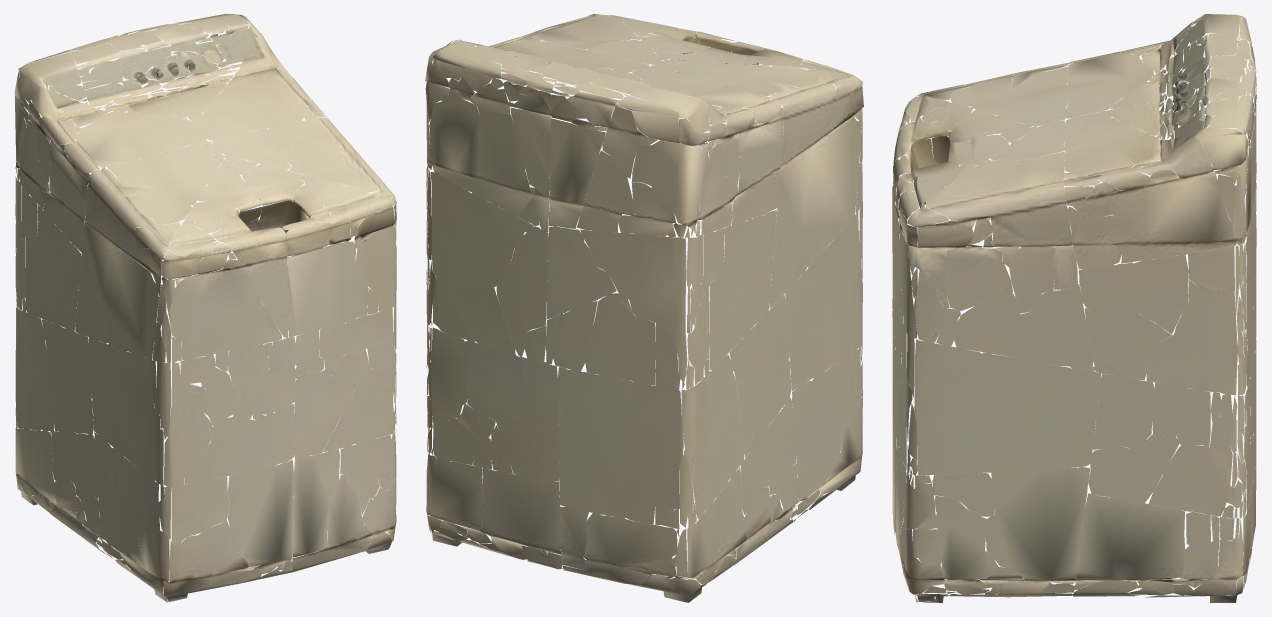
The model's file is washer_prop.glb.
3 renders of one model, left to right at view 1: azimuth 30°, elevation 25°; view 2: azimuth 150°, elevation 25°; view 3: azimuth 270°, elevation 25°, orthographic. The views are drawn at different scales.
Parts seen in each view (by area): view 1: prop_washer; view 2: prop_washer; view 3: prop_washer.
Part boxes in pixels (left/top/right/bottom): prop_washer: left=14, top=14, right=396, bottom=602; prop_washer: left=425, top=14, right=863, bottom=602; prop_washer: left=892, top=14, right=1256, bottom=602.
Bounding box in the file's own units: 0.569 × 0.9787 × 0.6821.
1 material, 1 textured.
